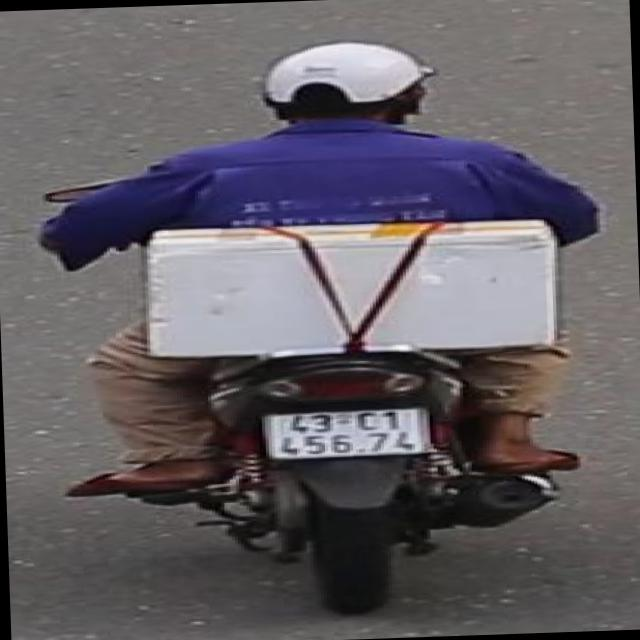LP: (262, 403, 436, 463)
helmet: (256, 34, 436, 135)
